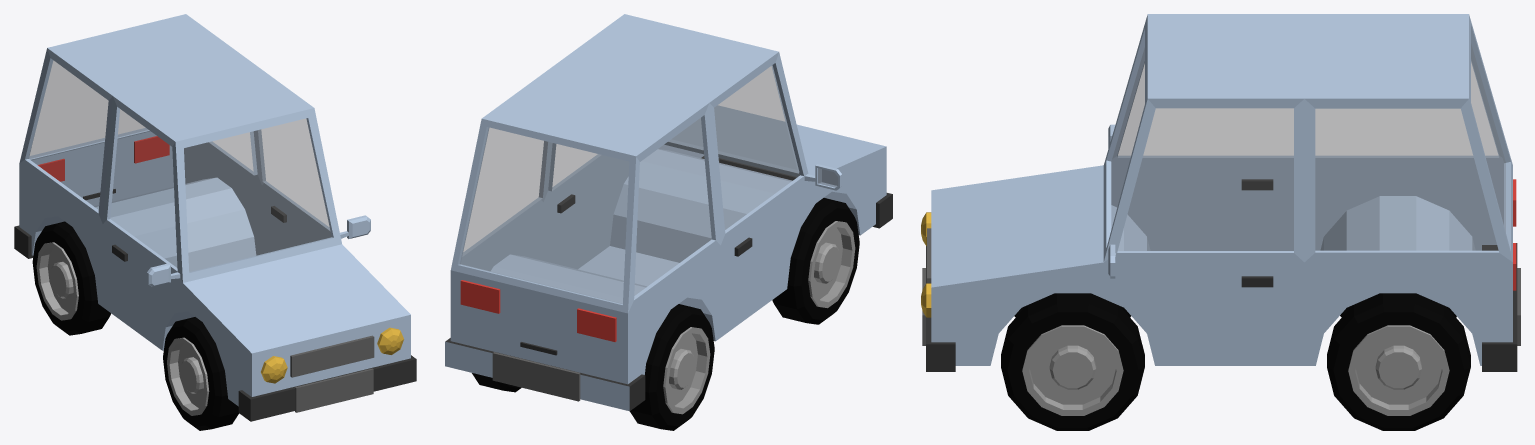
The model's file is car_white.gltf.
3 views of the same model, side by side, from view 1: azimuth 30°, elevation 25°; view 2: azimuth 150°, elevation 25°; view 3: azimuth 270°, elevation 25° (orthographic). The views are drawn at different scales.
Parts seen in each view (by area): view 1: Plane, Cylinder; view 2: Plane, Cylinder; view 3: Plane, Cylinder.
Part boxes in pixels (box(x1,y1,x2,y2)): Plane: box(14, 14, 416, 421); Cylinder: box(32, 221, 238, 430); Plane: box(445, 14, 892, 411); Cylinder: box(472, 198, 859, 430); Plane: box(921, 14, 1520, 371); Cylinder: box(1001, 293, 1470, 430).
Size of the model in its own units: 2.23 by 2.49 by 4.16.
